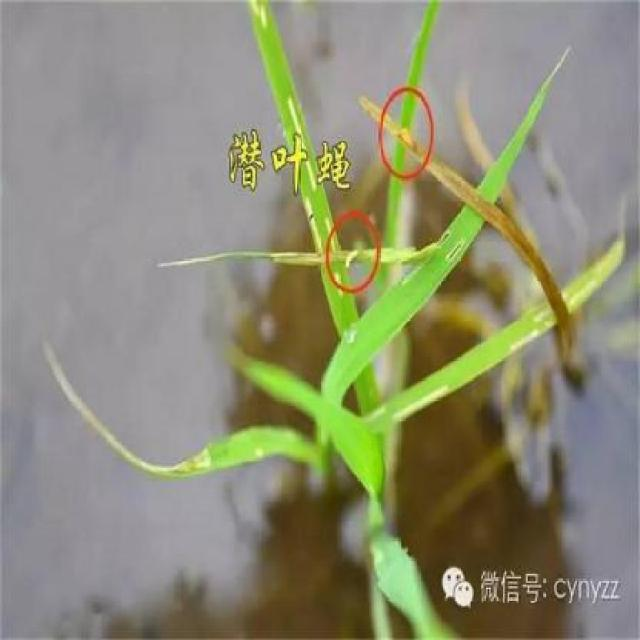whorl-maggot: (342, 238, 358, 278)
